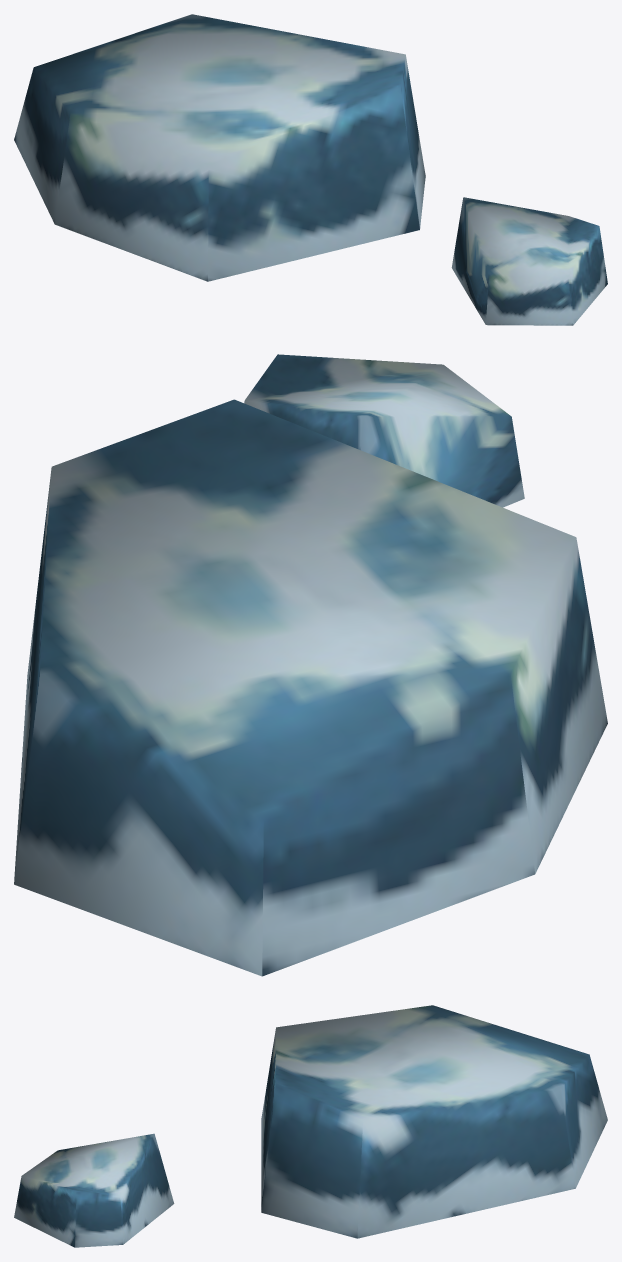
Rendered from Stage_BingYuan_FengHuoTaiShiDui01.FBX.
3 renders of one model, top to bottom at view 1: azimuth 30°, elevation 25°; view 2: azimuth 150°, elevation 25°; view 3: azimuth 270°, elevation 25°, orthographic. The views are drawn at different scales.
Visible parts, largest first — view 1: Stage_BingYuan_FengHuoTaiShiDui01; view 2: Stage_BingYuan_FengHuoTaiShiDui01; view 3: Stage_BingYuan_FengHuoTaiShiDui01.
Boxes of the visible parts, bbox=[...] form: Stage_BingYuan_FengHuoTaiShiDui01: bbox=[14, 14, 607, 325]; Stage_BingYuan_FengHuoTaiShiDui01: bbox=[14, 354, 607, 976]; Stage_BingYuan_FengHuoTaiShiDui01: bbox=[14, 1005, 607, 1247].
Size of the model in its own units: 75.13 by 28.28 by 123.
